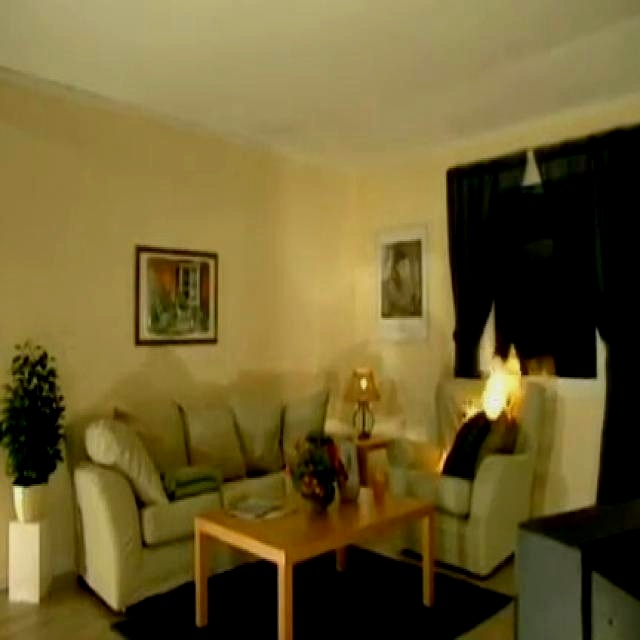fire: (423, 332, 543, 511)
